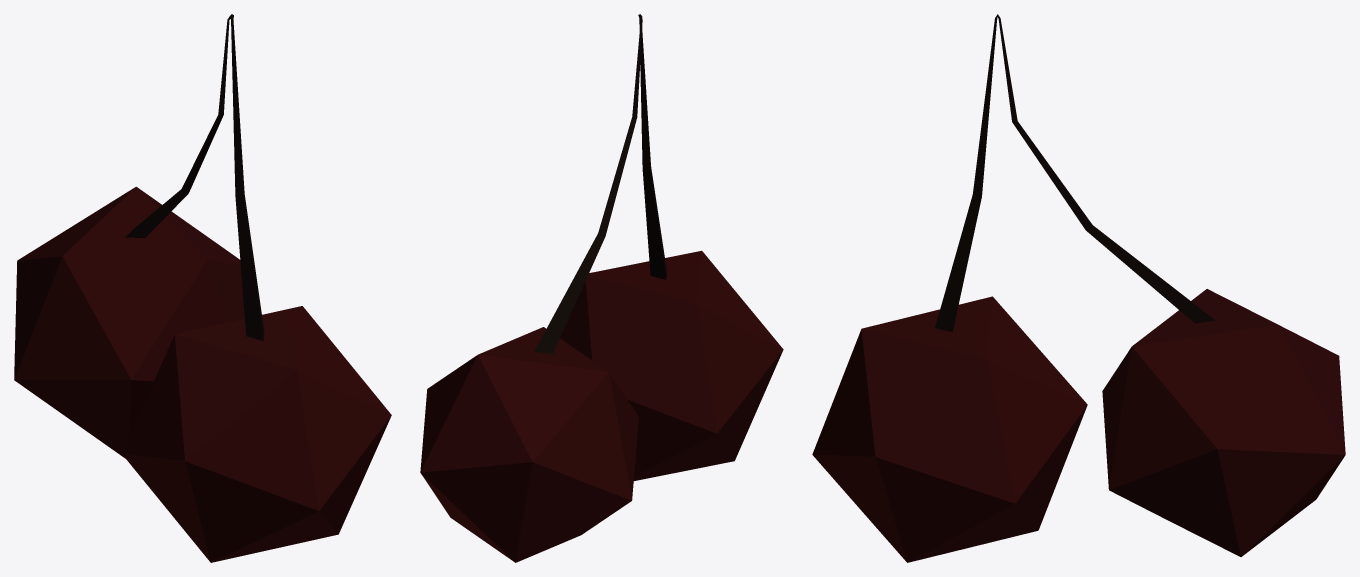
Rendered from cereza.FBX.
The picture shows the model from 3 angles, left to right: view 1: azimuth 30°, elevation 25°; view 2: azimuth 150°, elevation 25°; view 3: azimuth 270°, elevation 25°; orthographic projection. The views are drawn at different scales.
Parts seen in each view (by area): view 1: cereza; view 2: cereza; view 3: cereza.
Boxes of the visible parts, box(x1,y1,x2,y2) form: cereza: box(14, 14, 391, 562); cereza: box(420, 14, 783, 562); cereza: box(812, 14, 1345, 562).
Size of the model in its own units: 7.26 by 15.18 by 14.18.
